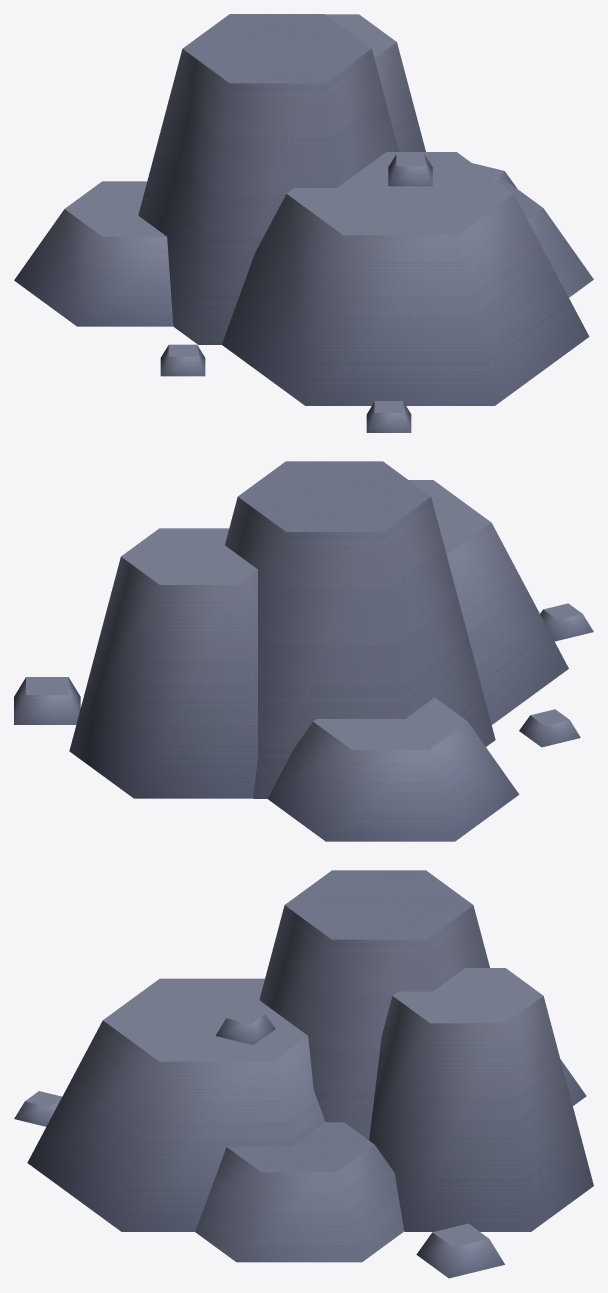
Rendered from rocks-small.glb.
The picture shows the model from 3 angles, top to bottom: view 1: azimuth 30°, elevation 25°; view 2: azimuth 150°, elevation 25°; view 3: azimuth 270°, elevation 25°; orthographic projection. The views are drawn at different scales.
Parts seen in each view (by area): view 1: rocks-small; view 2: rocks-small; view 3: rocks-small.
Part boxes in pixels (x1,y1,x2,y2): rocks-small: (14, 14, 593, 432); rocks-small: (14, 461, 593, 841); rocks-small: (14, 870, 593, 1278).
Bounding box in the file's own units: 3.09 × 1.5 × 3.32.
Materials: 1 (1 with a texture image).
